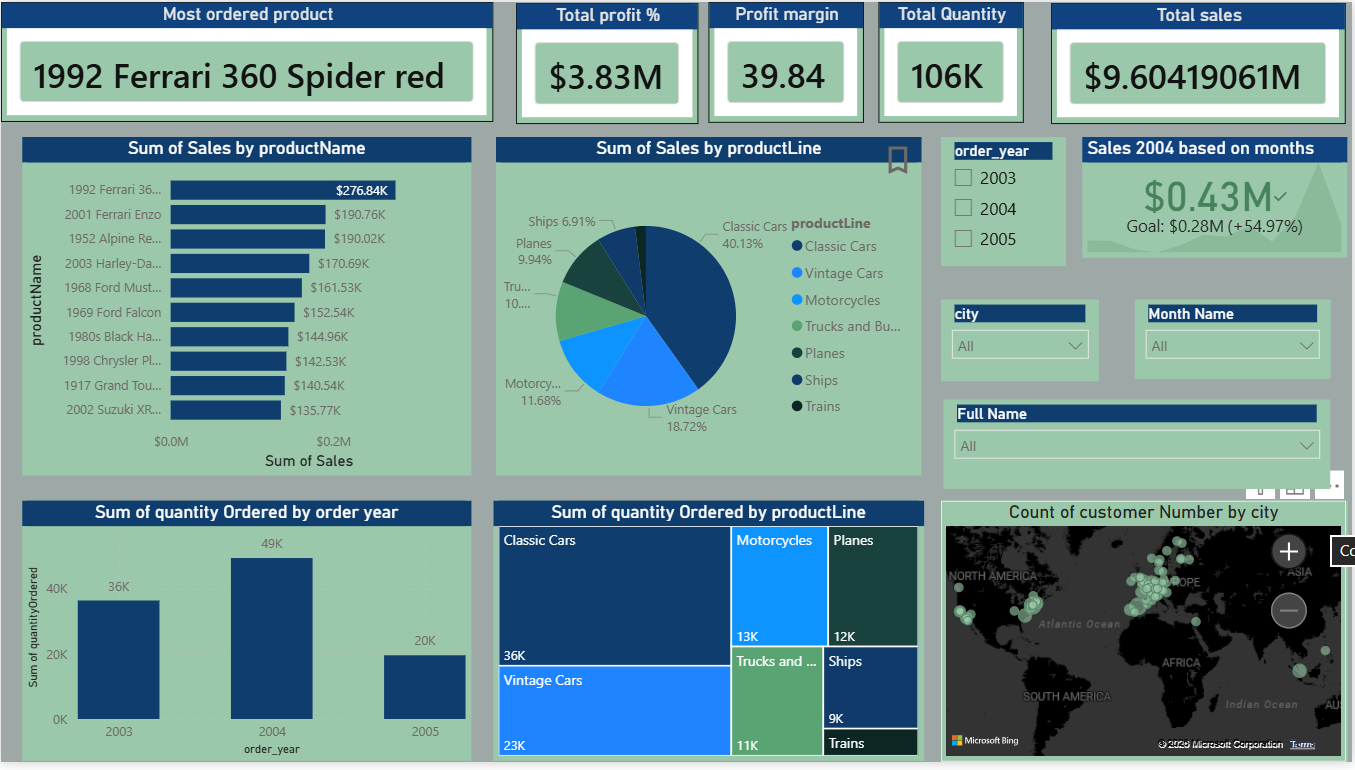

This screenshot's page, from the dashboard's own definition file:
{"tool":"powerbi","page":{"name":"Page 1","canvas":[1280,720],"ordinal":0},"visuals":[{"type":"barChart","fields":{"Y":["Sum(Order details.Sales)"],"Category":["Products.productName"]},"box":[20.5,128.2,425.4,320.4],"z":0},{"type":"cardVisual","title":"Total profit %","fields":{"Data":["Order details.total_profit"]},"box":[488.1,1.4,173.2,114.5],"z":1000},{"type":"cardVisual","title":"Most ordered product","fields":{"Data":["Order details.most_ordered_product"]},"box":[0,0,466.6,113.9],"z":2000},{"type":"pieChart","fields":{"Category":["Productlines.productLine"],"Y":["Sum(Order details.Sales)"]},"box":[469,128.2,403.6,320.4],"z":3000},{"type":"slicer","fields":{"Values":["Orders.order_year"]},"box":[890.3,128.2,118.6,122.7],"z":4000},{"type":"slicer","fields":{"Values":["Orders.Month Name"]},"box":[1074.4,282.2,185.4,75],"z":5000},{"type":"cardVisual","title":"Total Quantity ","fields":{"Data":["Sum(Order details.quantityOrdered)"]},"box":[831.7,0,137.7,114.5],"z":6000},{"type":"kpi","title":"Sales  2004 based on months","fields":{"Indicator":["Orders.sales_2004"],"Goal":["Orders.sales_2003"],"TrendLine":["Orders.Month Name"]},"box":[1023.9,128.2,250.9,114.5],"z":7000},{"type":"map","title":"Count of customer Number by city","fields":{"Category":["customers.city"],"Size":["CountNonNull(customers.customerNumber)"]},"box":[890.3,473.1,384.5,246.8],"z":8000},{"type":"treemap","title":"Sum of quantity Ordered by productLine","fields":{"Group":["Productlines.productLine"],"Values":["Sum(Order details.quantityOrdered)"]},"box":[466.3,473.1,407.7,246.8],"z":9000},{"type":"columnChart","title":"Sum of quantity Ordered by order year","fields":{"Category":["Orders.order_year"],"Y":["Sum(Order details.quantityOrdered)"]},"box":[20.5,473.1,425.4,246.8],"z":10000},{"type":"cardVisual","title":"Profit margin","fields":{"Data":["classicmodels (2).profit_margin_percentage"]},"box":[670.8,0,147.3,114.5],"z":11000},{"type":"cardVisual","title":"Total sales","fields":{"Data":["Sum(Order details.Sales)"]},"box":[995.3,1.4,279.5,114.5],"z":12000},{"type":"slicer","fields":{"Values":["Offices.city"]},"box":[890.3,282.2,150,77.7],"z":13000},{"type":"slicer","fields":{"Values":["employees.Full Name"]},"box":[893.1,376.3,366.8,84.5],"z":14000},{"type":"actionButton","box":[832,128.7,34.6,40.5],"z":15000}]}

Visuals, with their boxes in screenshot pixels (x1, y1, x2, y2), scaled from the page's 1280x720 canvas onto the 1355x770 screenshot:
barChart - Sum(Order details.Sales) x Products.productName: Rect(22, 137, 472, 480)
"Total profit %" cardVisual: Rect(517, 1, 700, 124)
"Most ordered product" cardVisual: Rect(0, 0, 494, 122)
pieChart - Productlines.productLine x Sum(Order details.Sales): Rect(496, 137, 924, 480)
slicer - Orders.order_year: Rect(942, 137, 1068, 268)
slicer - Orders.Month Name: Rect(1137, 302, 1334, 382)
"Total Quantity " cardVisual: Rect(880, 0, 1026, 122)
"Sales  2004 based on months" kpi: Rect(1084, 137, 1349, 260)
"Count of customer Number by city" map: Rect(942, 506, 1349, 769)
"Sum of quantity Ordered by productLine" treemap: Rect(494, 506, 925, 769)
"Sum of quantity Ordered by order year" columnChart: Rect(22, 506, 472, 769)
"Profit margin" cardVisual: Rect(710, 0, 866, 122)
"Total sales" cardVisual: Rect(1054, 1, 1349, 124)
slicer - Offices.city: Rect(942, 302, 1101, 385)
slicer - employees.Full Name: Rect(945, 402, 1334, 493)
actionButton: Rect(881, 138, 917, 181)
